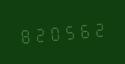eight: (17, 23, 31, 46)
five: (63, 19, 77, 42)
six: (78, 18, 92, 41)
two: (32, 22, 46, 45), (93, 17, 107, 40)
zero: (48, 21, 62, 43)
